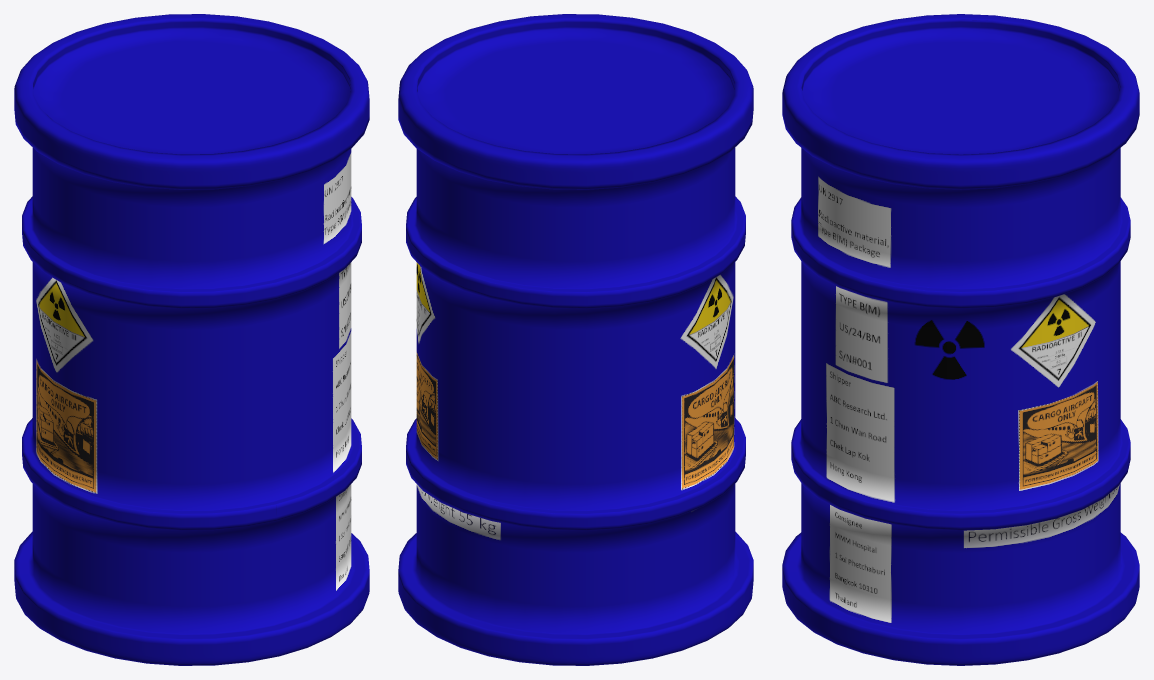
File: barrelpackage_correct.fbx
3 views of the same model, side by side, from view 1: azimuth 30°, elevation 25°; view 2: azimuth 150°, elevation 25°; view 3: azimuth 270°, elevation 25° (orthographic).
Parts seen in each view (by area): view 1: Cylinder; view 2: Cylinder; view 3: Cylinder.
Boxes of the visible parts, x1,y1,x2,y2 form: Cylinder: (14,14,369,665); Cylinder: (398,14,753,665); Cylinder: (782,14,1139,665).
Size of the model in its own units: 201 by 316 by 202.
Materials: 1 (1 with a texture image).
